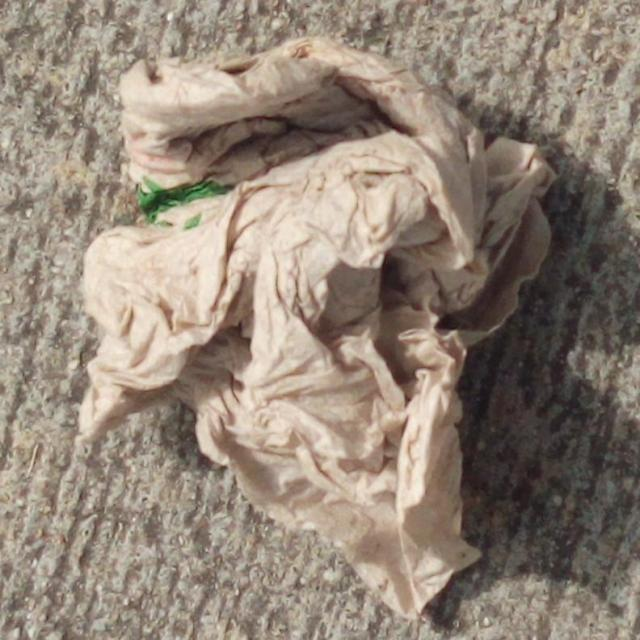litter: (76, 37, 556, 618)
